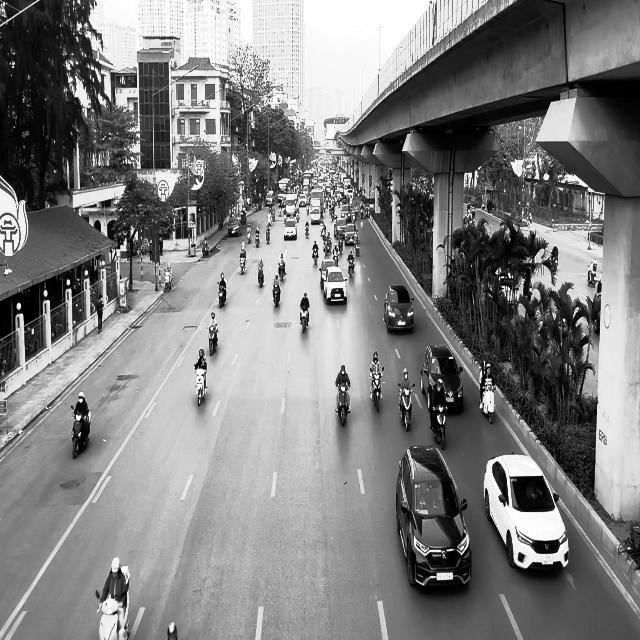car: (395, 444, 471, 588), (483, 452, 569, 571), (419, 344, 464, 412), (384, 284, 414, 332), (322, 267, 347, 305), (227, 218, 241, 236)
motorbike: (70, 404, 91, 458), (397, 383, 415, 431), (335, 379, 351, 426), (431, 403, 447, 450), (369, 367, 384, 412), (481, 382, 495, 423), (194, 364, 207, 406), (208, 327, 218, 356), (299, 306, 309, 332), (217, 282, 227, 308), (272, 281, 281, 307), (239, 254, 247, 274), (312, 243, 319, 264), (257, 266, 264, 287), (348, 256, 354, 278)
